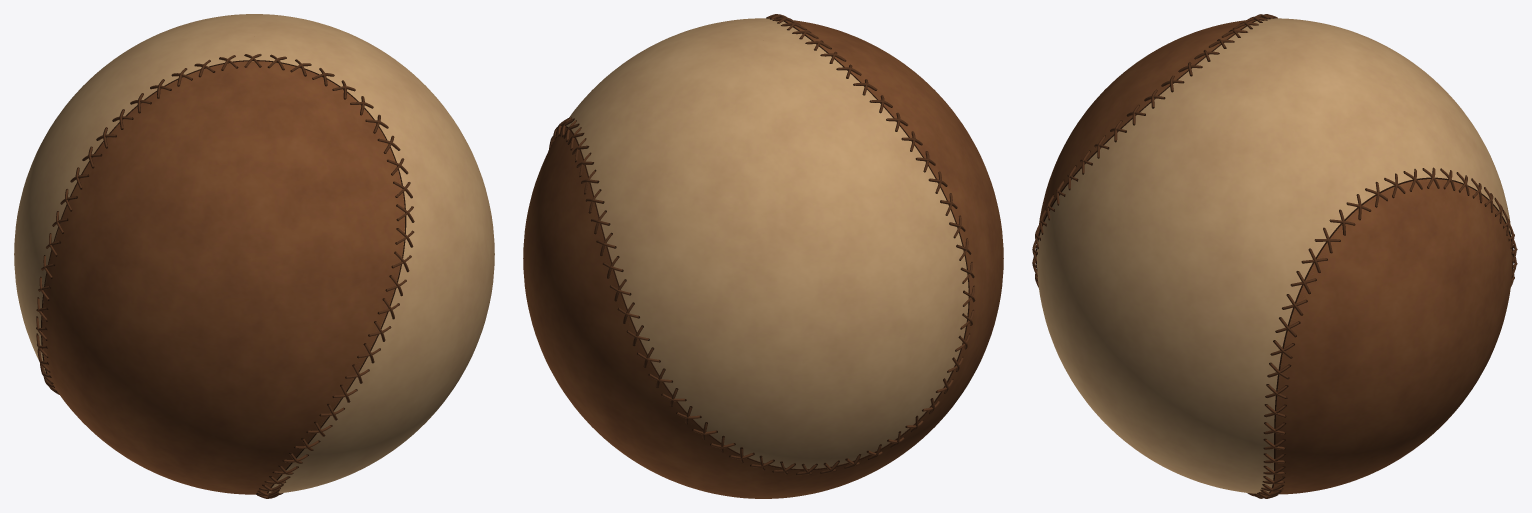
The model's file is leather-ball-two-tone.glb.
3 views of the same model, side by side, from view 1: azimuth 30°, elevation 25°; view 2: azimuth 150°, elevation 25°; view 3: azimuth 270°, elevation 25° (orthographic).
Parts seen in each view (by area): view 1: leather-ball-two-tone; view 2: leather-ball-two-tone; view 3: leather-ball-two-tone.
Boxes of the visible parts, bbox=[...] form: leather-ball-two-tone: bbox=[14, 14, 494, 498]; leather-ball-two-tone: bbox=[523, 14, 1003, 498]; leather-ball-two-tone: bbox=[1032, 14, 1517, 498].
Bounding box in the file's own units: 0.0744 × 0.0731 × 0.0744.
Materials: 3 (1 with a texture image).
